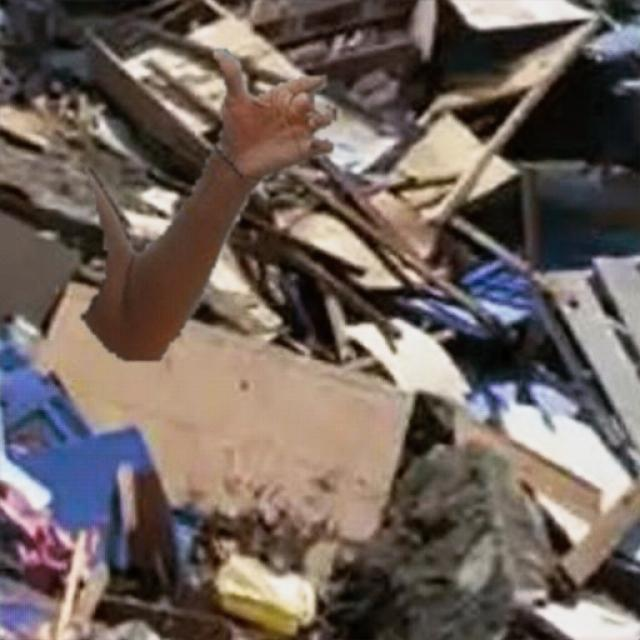Person in Rubble: (81, 49, 335, 360)
